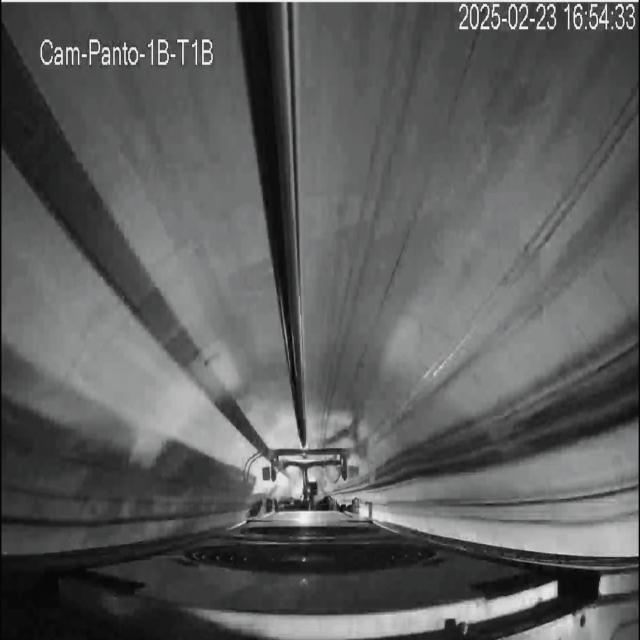Camera Stamp: (36, 29, 220, 70)
Date Stamp: (459, 3, 637, 33)
No - Spark: (254, 444, 357, 507)
